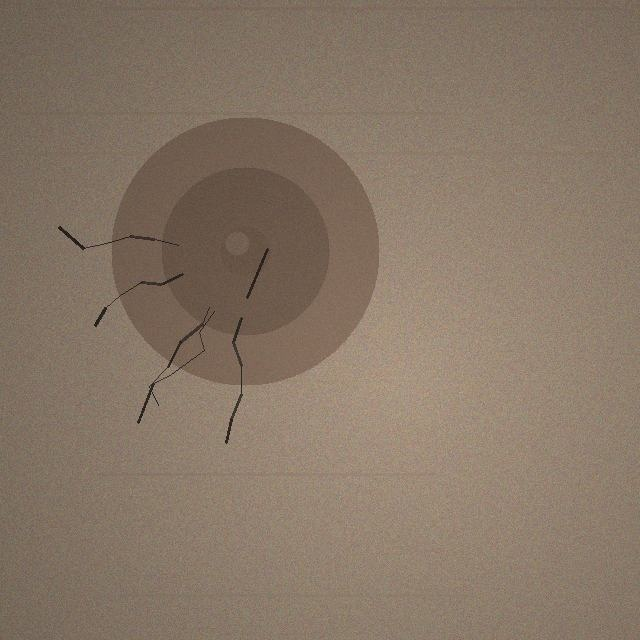crack: (111, 117, 379, 385)
